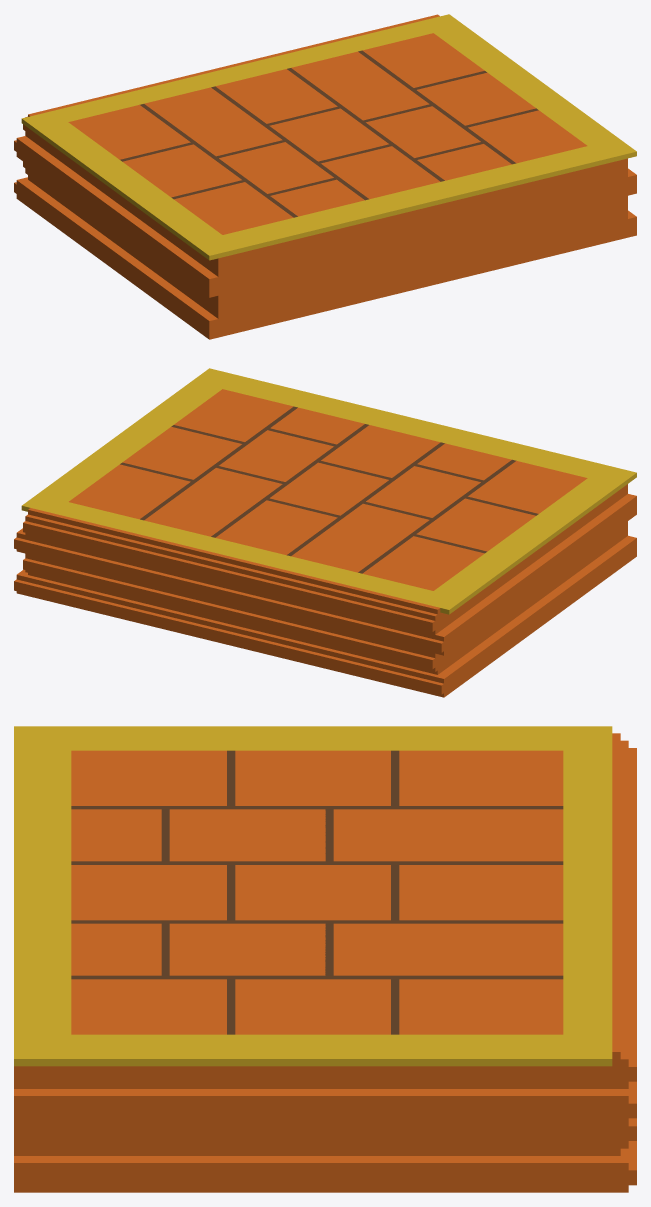
The model's file is kasaya.glb.
3 views of the same model, one above another, from view 1: azimuth 30°, elevation 25°; view 2: azimuth 150°, elevation 25°; view 3: azimuth 270°, elevation 25° (orthographic). The views are drawn at different scales.
Parts seen in each view (by area): view 1: kasaya:compound; view 2: kasaya:compound; view 3: kasaya:compound.
Part boxes in pixels (bbox=[...]): kasaya:compound: bbox=[14, 14, 636, 339]; kasaya:compound: bbox=[14, 368, 636, 697]; kasaya:compound: bbox=[14, 726, 636, 1192].
Size of the model in its own units: 0.384 by 0.072 by 0.304.
